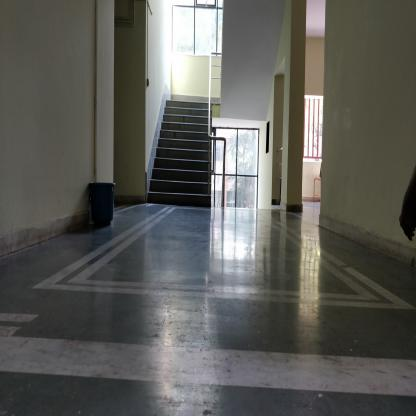stairs: (167, 101, 207, 211)
